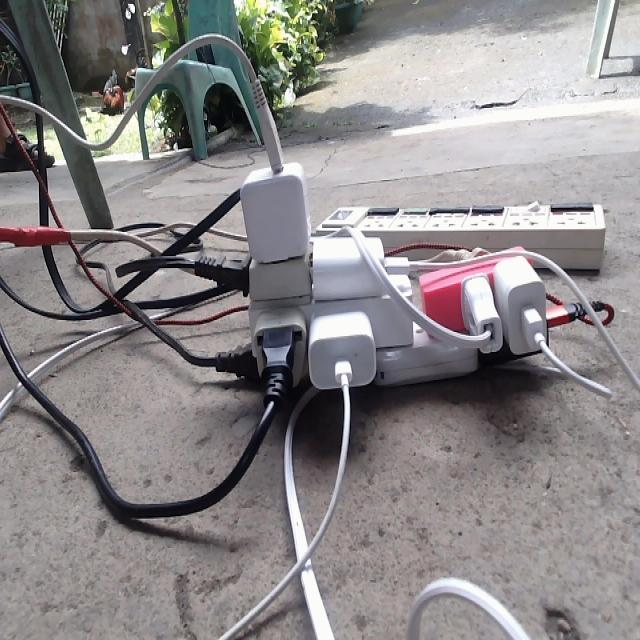-: (181, 74, 602, 418)
